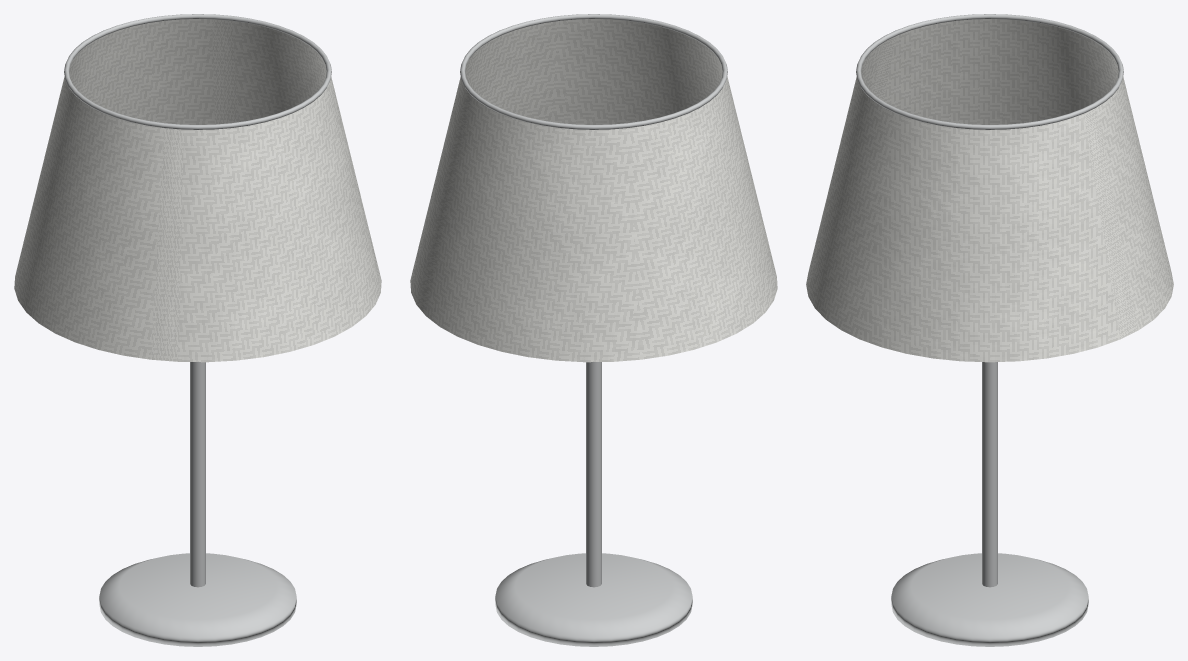
Rendered from lampara-sobremesa.glb.
3 views of the same model, side by side, from view 1: azimuth 30°, elevation 25°; view 2: azimuth 150°, elevation 25°; view 3: azimuth 270°, elevation 25° (orthographic).
Parts seen in each view (by area): view 1: lampara-sobremesa; view 2: lampara-sobremesa; view 3: lampara-sobremesa.
Boxes of the visible parts, x1,y1,x2,y2 form: lampara-sobremesa: (14,14,381,646); lampara-sobremesa: (410,14,777,646); lampara-sobremesa: (806,14,1173,646).
Size of the model in its own units: 0.28 by 0.45 by 0.28.
Materials: 2 (1 with a texture image).
